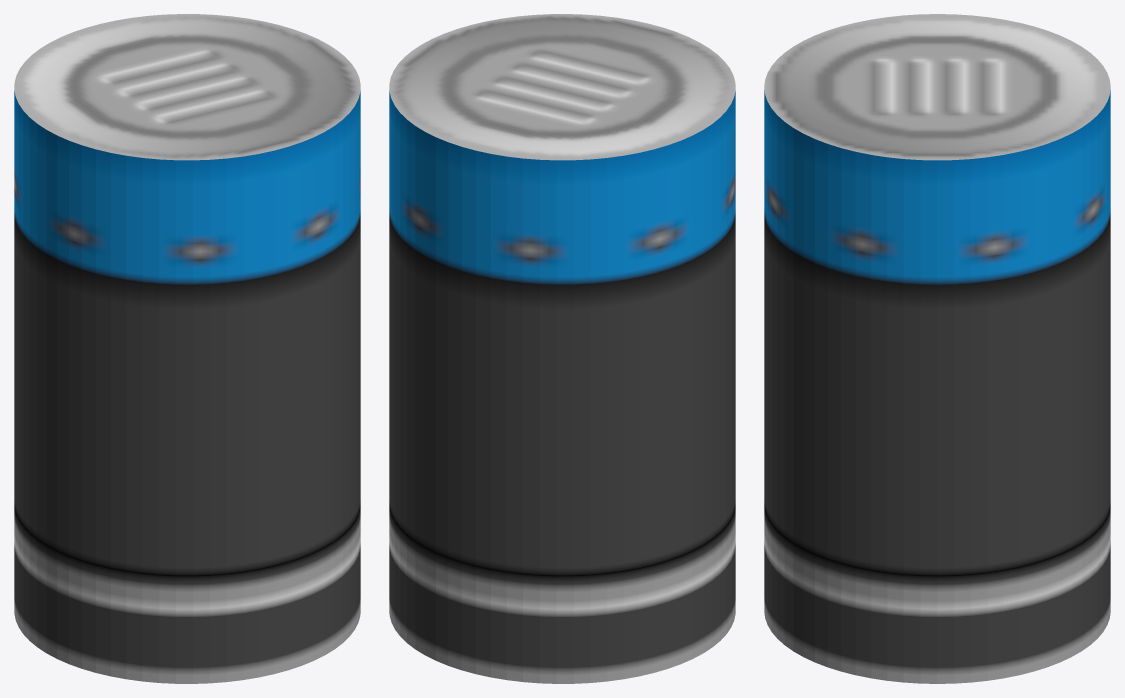
File: roller3s.obj
The picture shows the model from 3 angles, left to right: view 1: azimuth 30°, elevation 25°; view 2: azimuth 150°, elevation 25°; view 3: azimuth 270°, elevation 25°; orthographic projection.
Visible parts, largest first — view 1: ColobotMesh_1_ColobotMesh_; view 2: ColobotMesh_1_ColobotMesh_; view 3: ColobotMesh_1_ColobotMesh_.
Part boxes in pixels (left/top/right/bottom): ColobotMesh_1_ColobotMesh_: left=14, top=14, right=360, bottom=683; ColobotMesh_1_ColobotMesh_: left=389, top=14, right=735, bottom=683; ColobotMesh_1_ColobotMesh_: left=764, top=14, right=1110, bottom=683.
Bounding box in the file's own units: 2.4 × 4 × 2.4.
